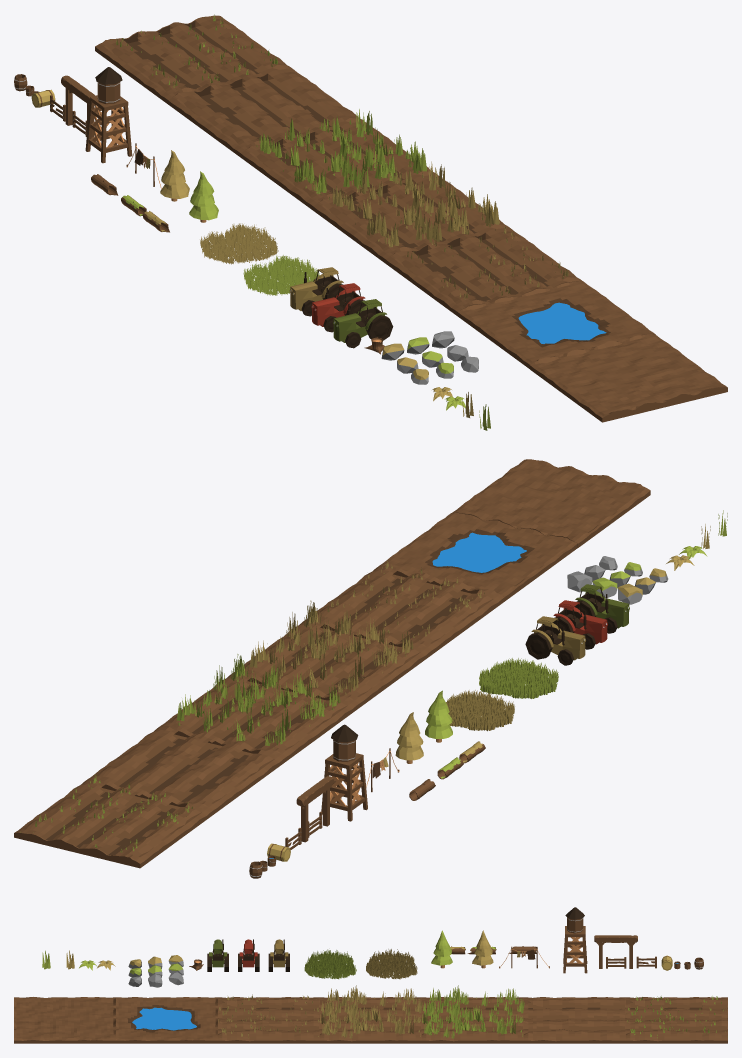
The model's file is farm_modular_pack.glb.
The picture shows the model from 3 angles, top to bottom: view 1: azimuth 30°, elevation 25°; view 2: azimuth 150°, elevation 25°; view 3: azimuth 270°, elevation 25°; orthographic projection. The views are drawn at different scales.
Parts seen in each view (by area): view 1: DirtFlat, Dirthighdry, Dirthighgreen, DirtSmalldry, Dirtshortgreen, DirtWater, Dirtdry, WaterPole, GrassDry, GrassGreen, Tractor-green, Tractor-yellow (+4 smaller); view 2: Dirtshortgreen, Dirthighgreen, Dirthighdry, DirtWater, DirtFlat, Dirtdry, DirtSmalldry, WaterPole, GrassGreen, GrassDry, Tractor-yellow, Tractor-red (+4 smaller); view 3: Dirthighdry, Dirthighgreen, DirtSmalldry, Dirtshortgreen, DirtWater, DirtFlat, Dirtdry, GrassGreen, GrassDry, WaterPole, Gate, Tractor-green (+5 smaller).
Boxes of the visible parts, <box> form: DirtFlat: <box>530,334,727,422</box>; Dirthighdry: <box>312,161,510,262</box>; Dirthighgreen: <box>240,109,437,209</box>; DirtSmalldry: <box>385,227,581,315</box>; Dirtshortgreen: <box>95,14,292,103</box>; DirtWater: <box>457,281,655,368</box>; Dirtdry: <box>167,68,362,156</box>; WaterPole: <box>85,67,132,163</box>; GrassDry: <box>200,223,278,264</box>; GrassGreen: <box>243,255,319,295</box>; Tractor-green: <box>333,299,393,348</box>; Tractor-yellow: <box>289,267,344,316</box>; Dirtshortgreen: <box>14,774,213,868</box>; Dirthighgreen: <box>160,654,358,761</box>; Dirthighdry: <box>234,600,431,707</box>; DirtWater: <box>379,512,577,601</box>; DirtFlat: <box>452,459,650,547</box>; Dirtdry: <box>87,726,285,814</box>; DirtSmalldry: <box>307,560,504,654</box>; WaterPole: <box>321,724,367,821</box>; GrassGreen: <box>479,658,558,698</box>; GrassDry: <box>446,690,514,731</box>; Tractor-yellow: <box>525,616,585,665</box>; Tractor-red: <box>552,600,607,649</box>; Dirthighdry: <box>320,985,422,1043</box>; Dirthighgreen: <box>422,985,524,1043</box>; DirtSmalldry: <box>218,994,319,1043</box>; Dirtshortgreen: <box>626,996,727,1043</box>; DirtWater: <box>116,997,217,1043</box>; DirtFlat: <box>14,997,115,1043</box>; Dirtdry: <box>524,997,625,1043</box>; GrassGreen: <box>304,949,356,979</box>; GrassDry: <box>366,949,417,979</box>; WaterPole: <box>563,907,587,973</box>; Gate: <box>594,935,637,968</box>; Tractor-green: <box>207,939,228,971</box>.
Size of the model in its own units: 21.19 by 6.67 by 69.99.
